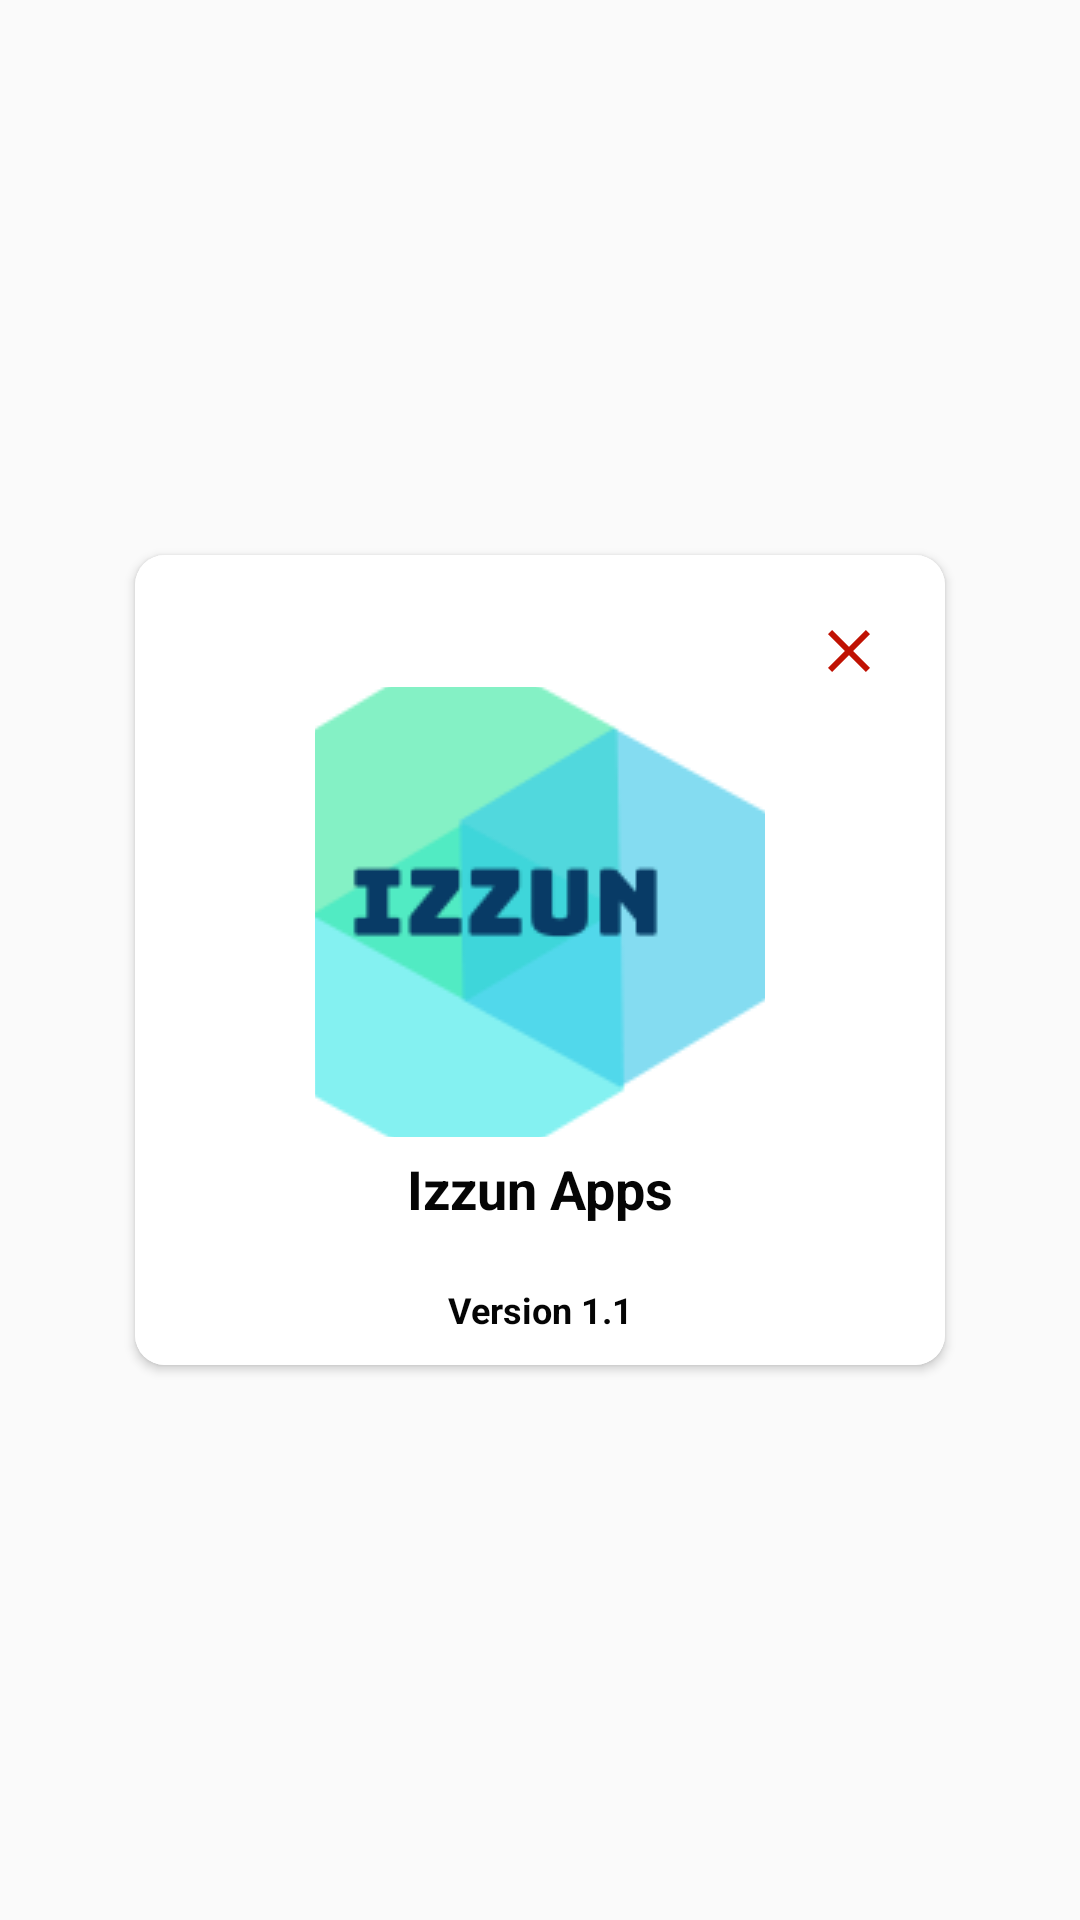

Icon bounding boxes for this 1080px×1920px phone screenshot, format Rect(x1, y1, x2, y2):
close: Rect(828, 630, 870, 672)
